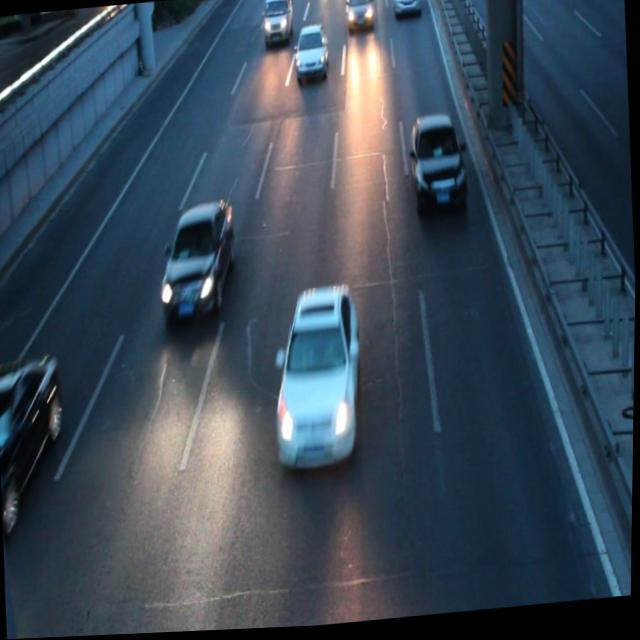car: (270, 284, 367, 476), (0, 354, 69, 525), (156, 201, 239, 324), (406, 116, 470, 220), (292, 26, 329, 81), (343, 0, 374, 36), (391, 0, 420, 17)
truck: (261, 0, 293, 47)
